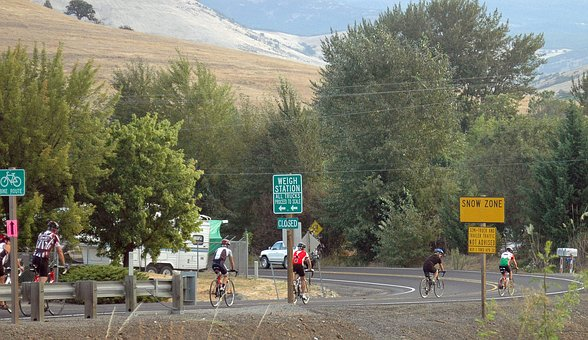bikerider: (203, 238, 244, 310), (412, 243, 452, 301), (282, 241, 315, 301), (493, 246, 522, 299)
